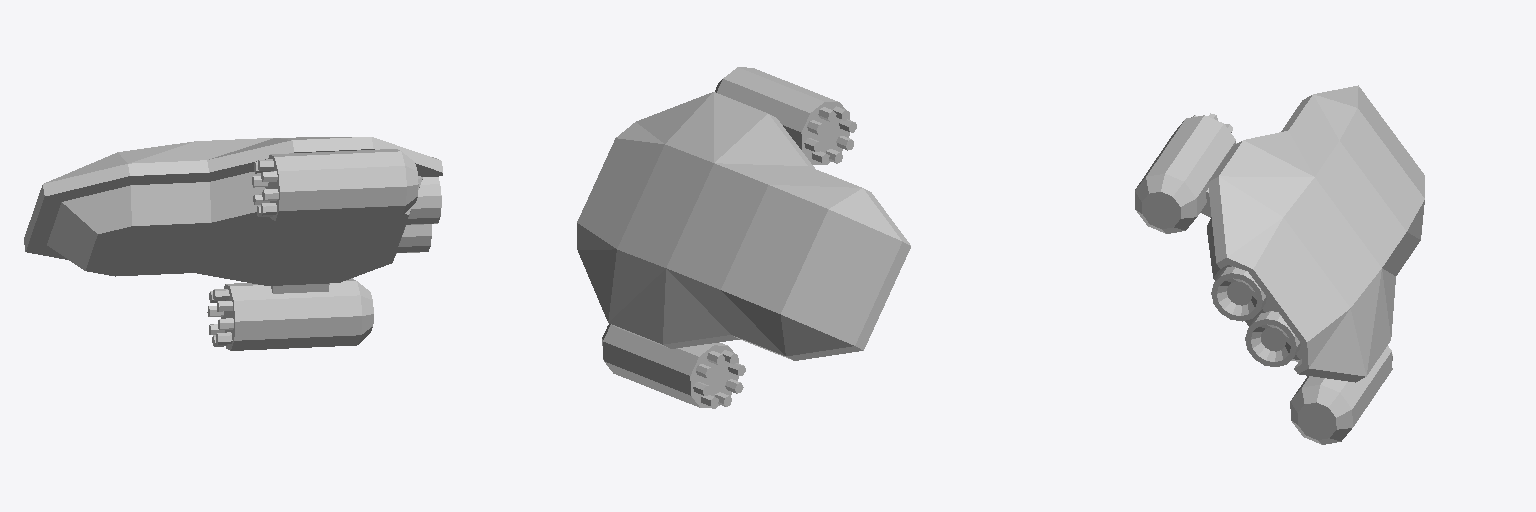
Rendered from SpaceShip10.obj.
3 renders of one model, left to right at view 1: azimuth 30°, elevation 25°; view 2: azimuth 150°, elevation 25°; view 3: azimuth 270°, elevation 25°, orthographic.
Visible parts, largest first — view 1: space_cruiser_4; view 2: space_cruiser_4; view 3: space_cruiser_4.
Boxes of the visible parts, x1=… form: space_cruiser_4: x1=24, y1=137, x2=442, y2=350; space_cruiser_4: x1=577, y1=67, x2=910, y2=408; space_cruiser_4: x1=1135, y1=85, x2=1424, y2=444.
Size of the model in its own units: 2.7 by 1.91 by 1.92.